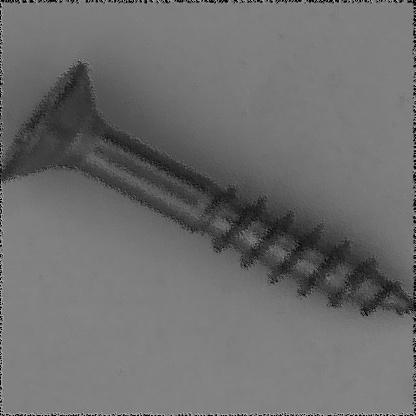metal: (2, 60, 413, 319)
